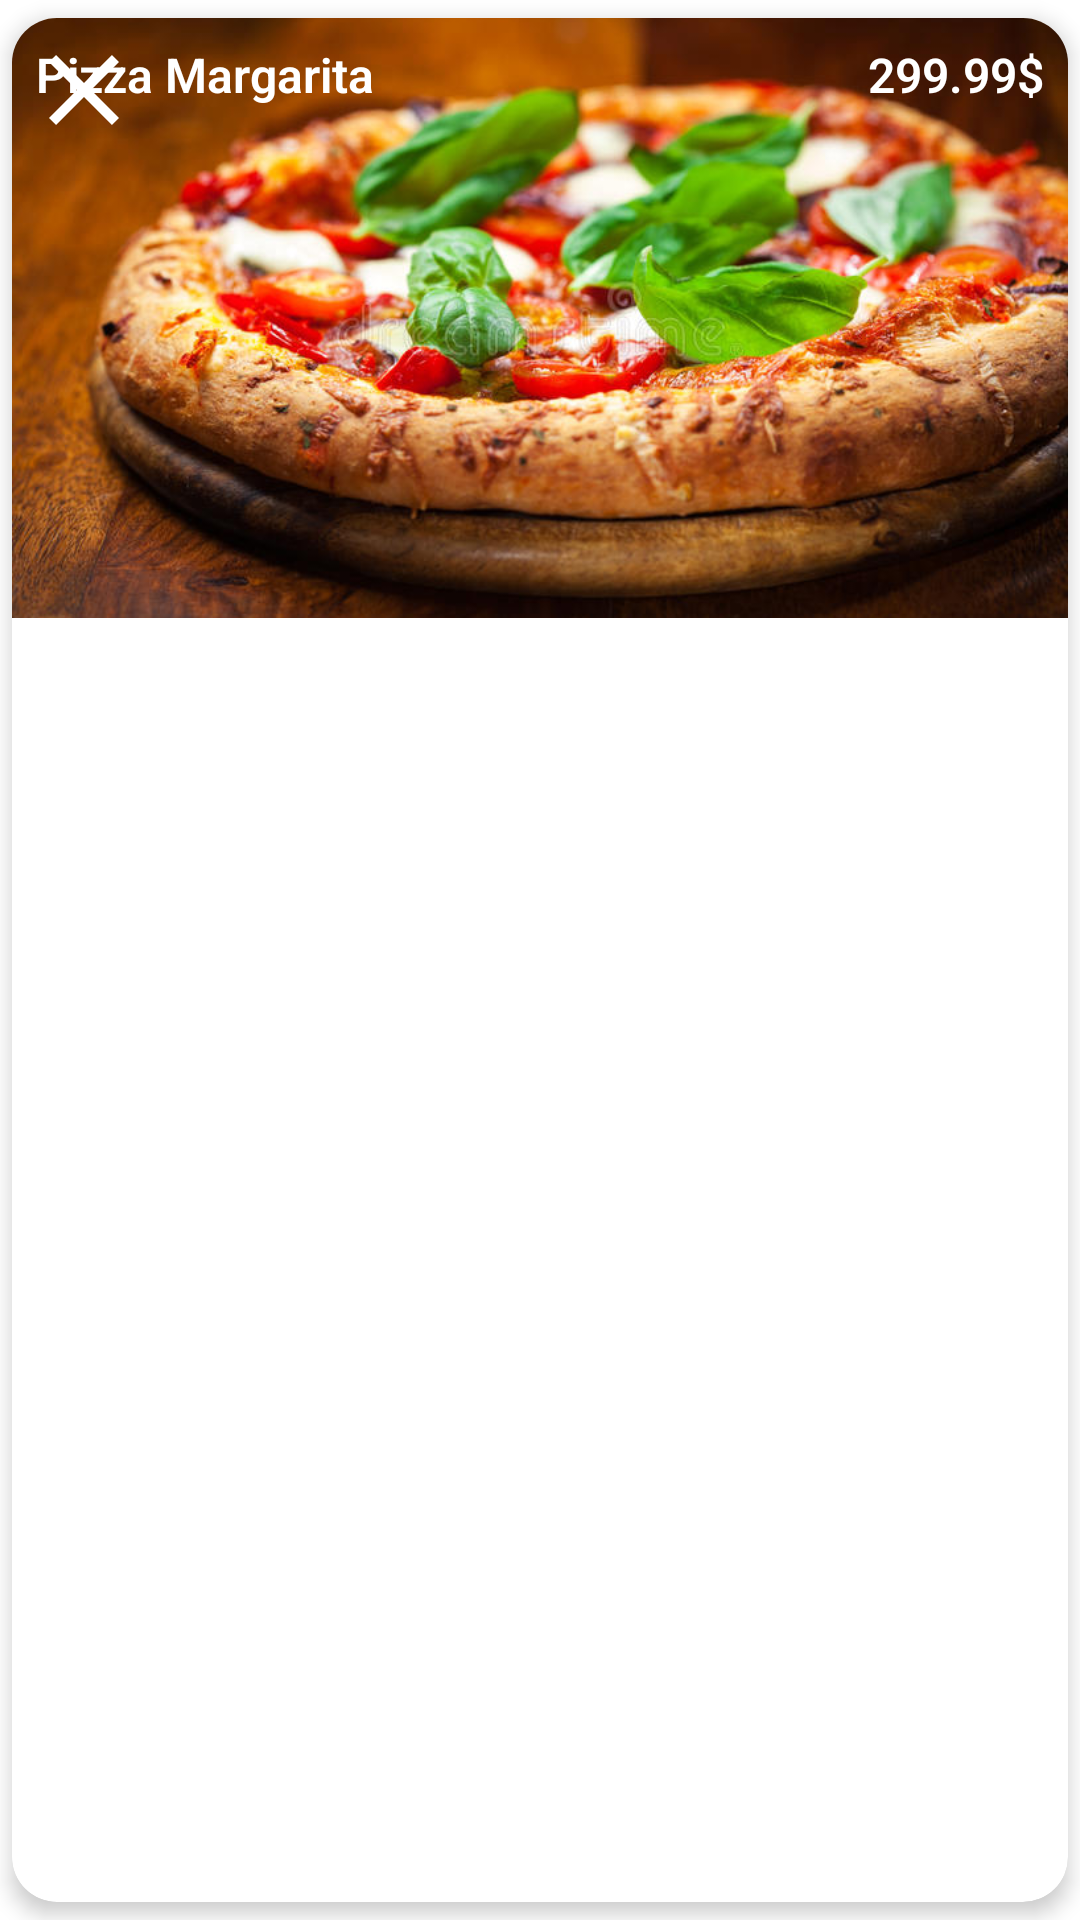

Named icons in this screenshot (1080 × 1920) and their centers, point (x, y):
close: point (84, 90)
